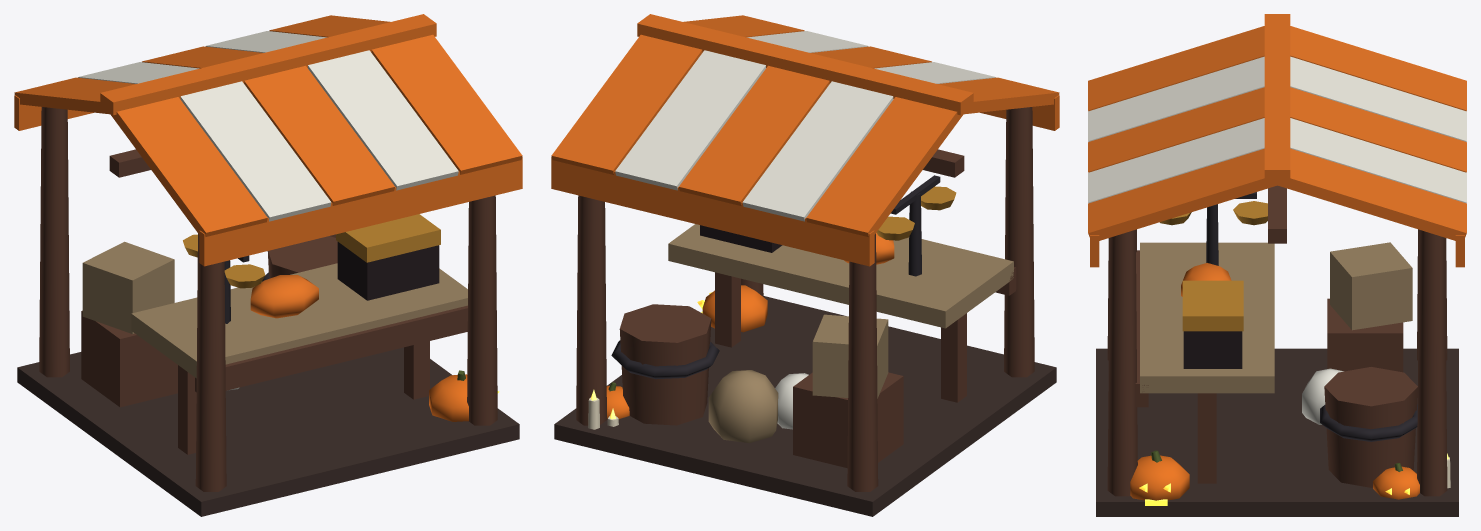
The model's file is building_market.glb.
3 views of the same model, side by side, from view 1: azimuth 30°, elevation 25°; view 2: azimuth 150°, elevation 25°; view 3: azimuth 270°, elevation 25° (orthographic).
Visible parts, largest first — view 1: canopy, ground, table, canopy_valance_s, canopy_ridge, post_wn, post_ws, post_es, table_edge, crate_b, crate_a, coin_chest (+9 smaller); view 2: canopy, ground, table, canopy_valance_n, barrel, canopy_ridge, post_ws, post_wn, post_en, crate_a, sack_a, crate_b (+12 smaller); view 3: canopy, ground, table, barrel, post_en, post_es, crate_b, canopy_ridge, crate_a, coin_chest_lid, coin_chest, deco_hw_jack_0_body (+10 smaller).
Boxes of the visible parts, bbox=[...] form: canopy: bbox=[14, 15, 522, 236]; ground: bbox=[17, 347, 519, 516]; table: bbox=[131, 263, 467, 378]; canopy_valance_s: bbox=[199, 157, 522, 266]; canopy_ridge: bbox=[100, 14, 436, 115]; post_wn: bbox=[39, 107, 69, 377]; post_ws: bbox=[195, 233, 226, 491]; post_es: bbox=[467, 195, 497, 425]; table_edge: bbox=[195, 305, 467, 392]; crate_b: bbox=[82, 241, 174, 334]; crate_a: bbox=[81, 310, 177, 407]; coin_chest: bbox=[337, 242, 439, 300]; canopy: bbox=[551, 15, 1059, 236]; ground: bbox=[554, 296, 1056, 516]; table: bbox=[668, 224, 1013, 328]; canopy_valance_n: bbox=[551, 157, 874, 266]; barrel: bbox=[619, 304, 711, 425]; canopy_ridge: bbox=[637, 14, 973, 115]; post_ws: bbox=[1004, 107, 1034, 377]; post_wn: bbox=[847, 233, 878, 491]; post_en: bbox=[576, 195, 606, 425]; crate_a: bbox=[793, 372, 903, 468]; sack_a: bbox=[708, 370, 778, 443]; crate_b: bbox=[812, 314, 888, 398]; canopy: bbox=[1088, 26, 1466, 240]; ground: bbox=[1096, 348, 1458, 516]; table: bbox=[1140, 242, 1274, 393]; barrel: bbox=[1324, 367, 1417, 487]; post_en: bbox=[1417, 230, 1447, 496]; post_es: bbox=[1107, 230, 1137, 496]; crate_b: bbox=[1330, 242, 1412, 330]; canopy_ridge: bbox=[1264, 14, 1290, 182]; crate_a: bbox=[1327, 298, 1403, 372]; coin_chest_lid: bbox=[1182, 280, 1243, 331]; coin_chest: bbox=[1183, 331, 1242, 368]; deco_hw_jack_0_body: bbox=[1130, 455, 1189, 500].
Bounding box in the file's own units: 0.3171 × 0.3328 × 0.3233.
